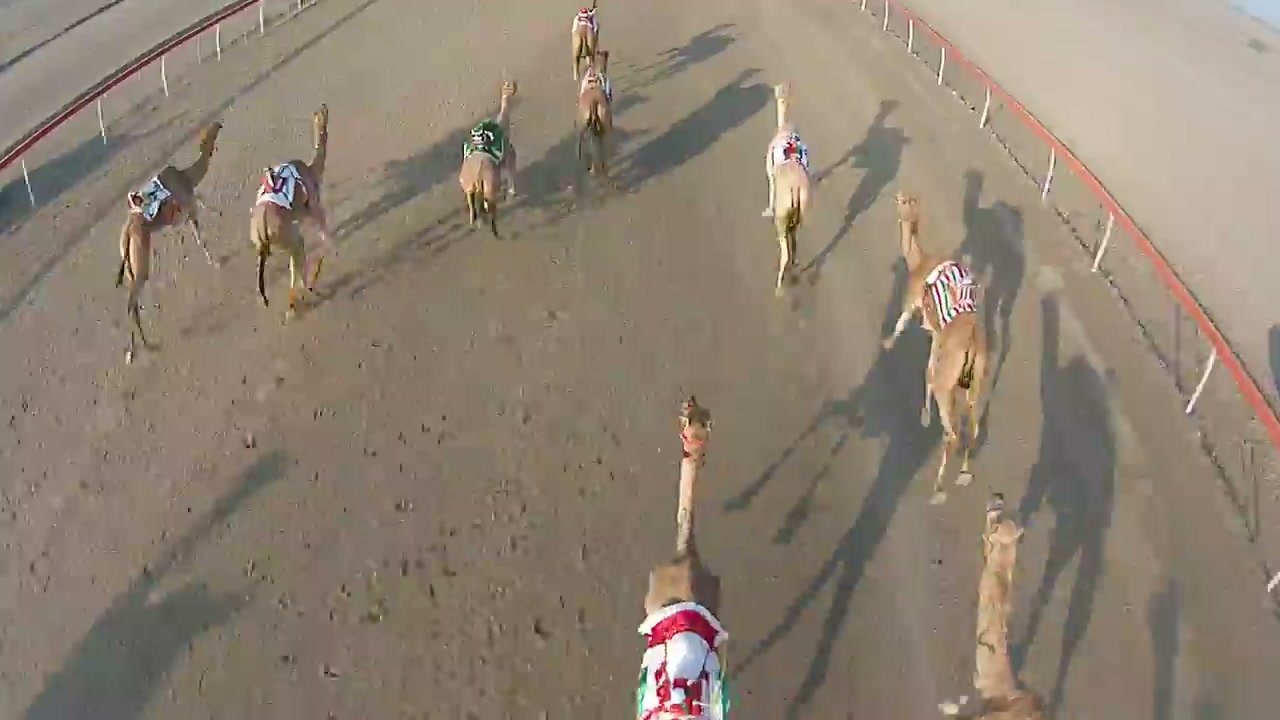animal_foot_print: (238, 282, 615, 693)
